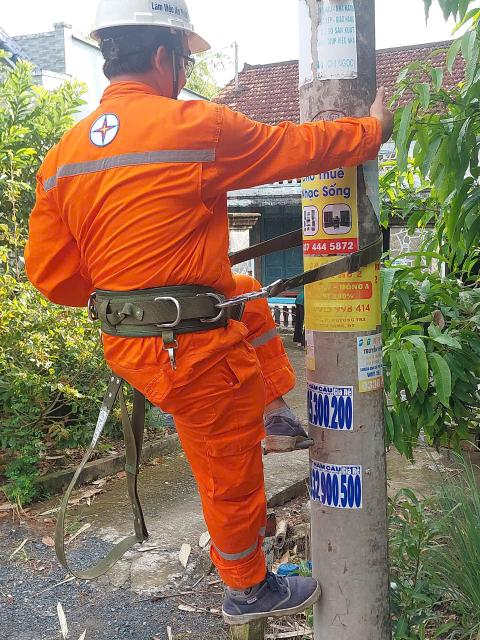harness: (72, 273, 276, 336)
helmet: (67, 0, 224, 59)
shoes: (205, 563, 328, 625), (255, 398, 324, 452)
